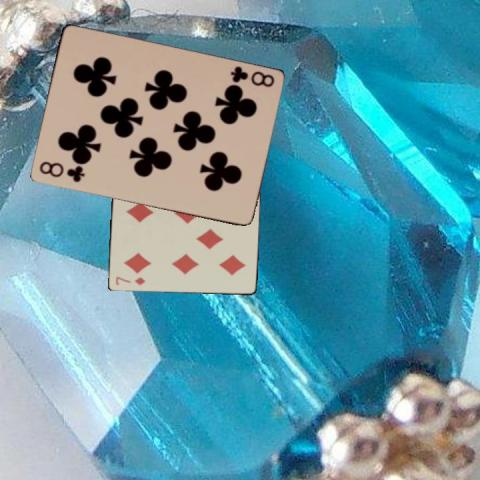7d: (112, 274, 146, 287)
8c: (227, 63, 275, 90), (36, 159, 86, 184)
